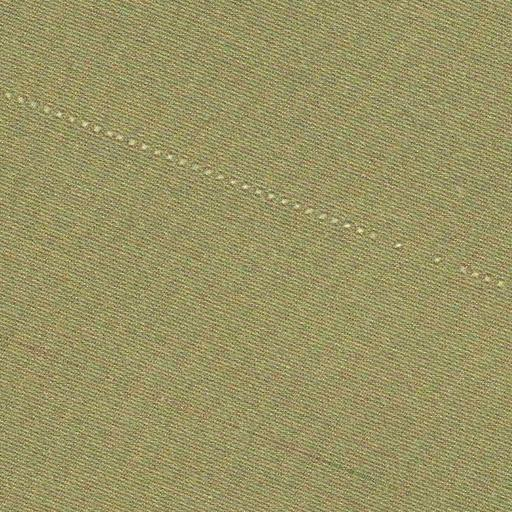slub: (6, 76, 505, 303)
